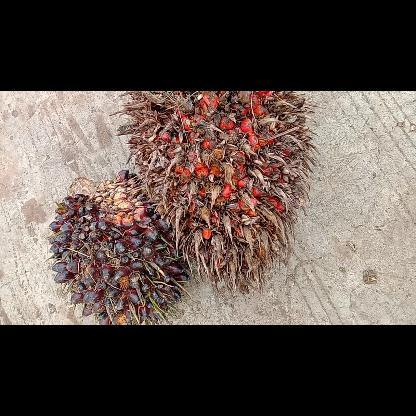TBS mentah: (47, 170, 190, 324)
Terlalu masak: (110, 91, 320, 294)
